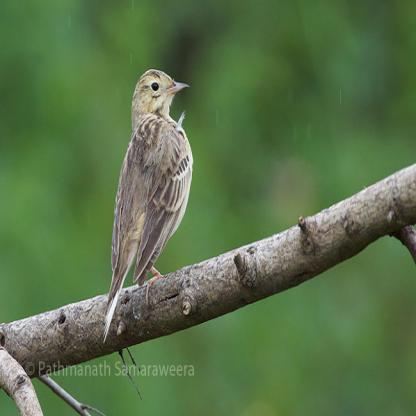Burung: (102, 65, 191, 347)
